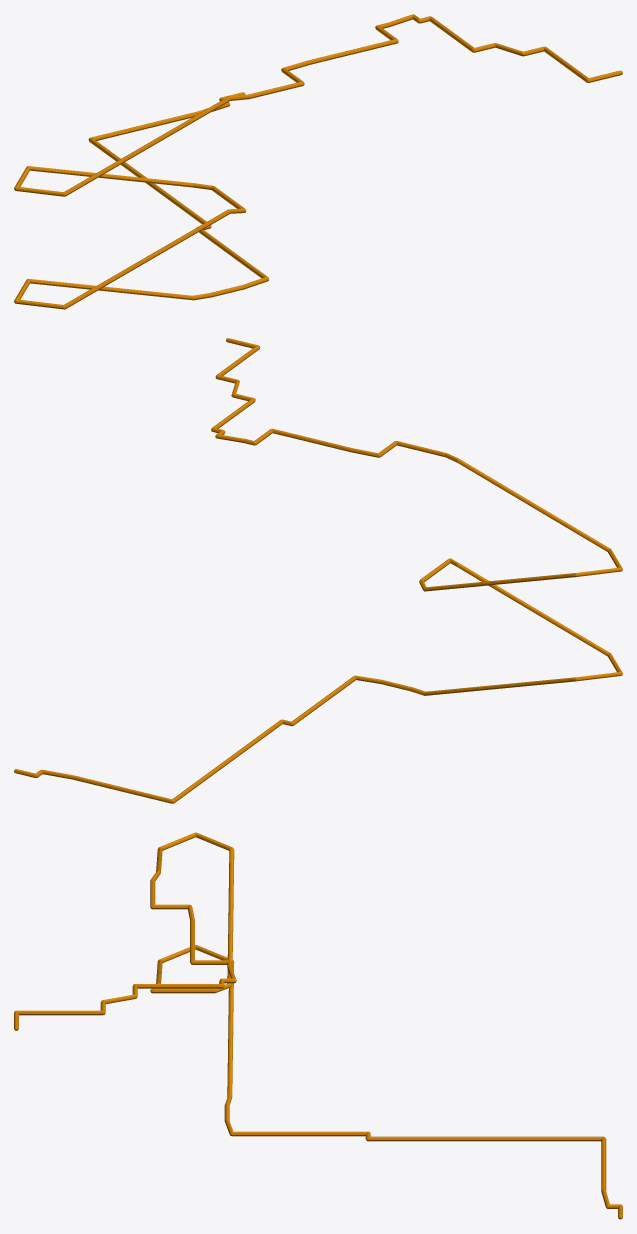
3 renders of one model, top to bottom at view 1: azimuth 30°, elevation 25°; view 2: azimuth 150°, elevation 25°; view 3: azimuth 270°, elevation 25°, orthographic. The views are drawn at different scales.
Bounding box in the file's own units: 2406 × 1020 × 2456.
